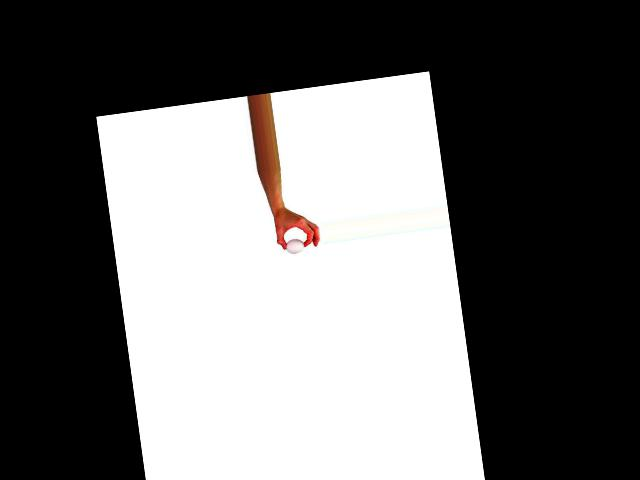egg: (284, 237, 304, 254)
